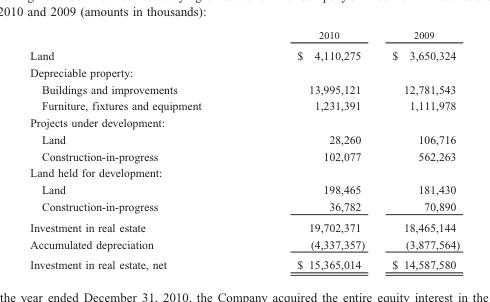table: (29, 29, 459, 270)
table column: (29, 29, 248, 270), (248, 29, 377, 270), (377, 29, 459, 270)
table column header: (29, 29, 459, 44)
table projected row header: (29, 63, 459, 80), (29, 113, 459, 130), (29, 164, 459, 181)
table row: (29, 44, 459, 63), (29, 197, 459, 216), (29, 216, 459, 235), (29, 235, 459, 254), (29, 63, 459, 80), (29, 80, 459, 97), (29, 113, 459, 130), (29, 130, 459, 147), (29, 147, 459, 164), (29, 164, 459, 181), (29, 97, 459, 113), (29, 181, 459, 197), (29, 254, 459, 270), (29, 29, 459, 44)
